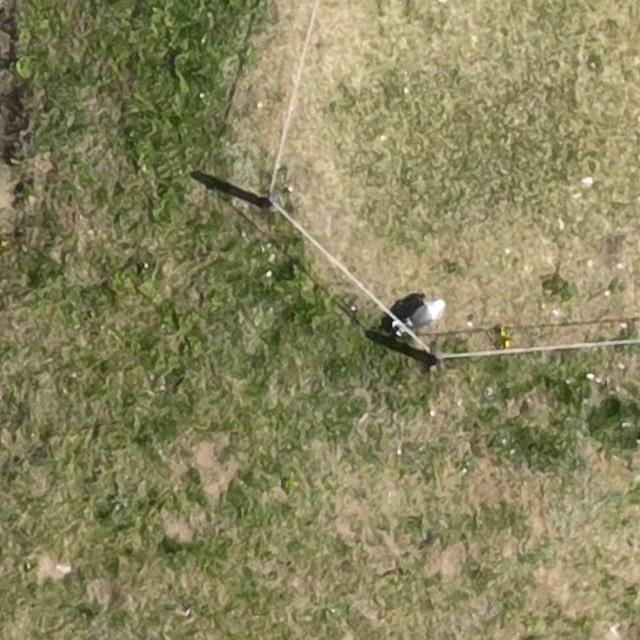umineko: (408, 300, 440, 325)
